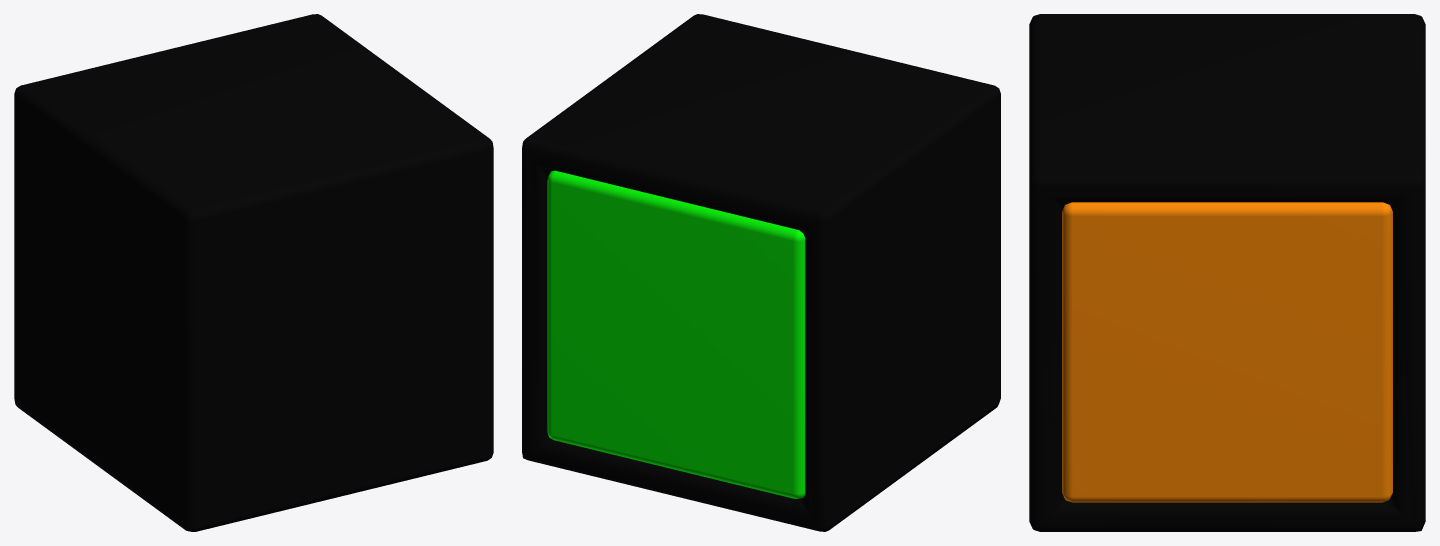
3 renders of one model, left to right at view 1: azimuth 30°, elevation 25°; view 2: azimuth 150°, elevation 25°; view 3: azimuth 270°, elevation 25°, orthographic. The views are drawn at different scales.
Parts seen in each view (by area): view 1: Cube.015; view 2: Cube.015; view 3: Cube.015.
Part boxes in pixels (left/top/right/bottom): Cube.015: left=14, top=14, right=493, bottom=531; Cube.015: left=522, top=14, right=1000, bottom=531; Cube.015: left=1029, top=14, right=1425, bottom=531.
Size of the model in its own units: 2 by 2 by 2.
